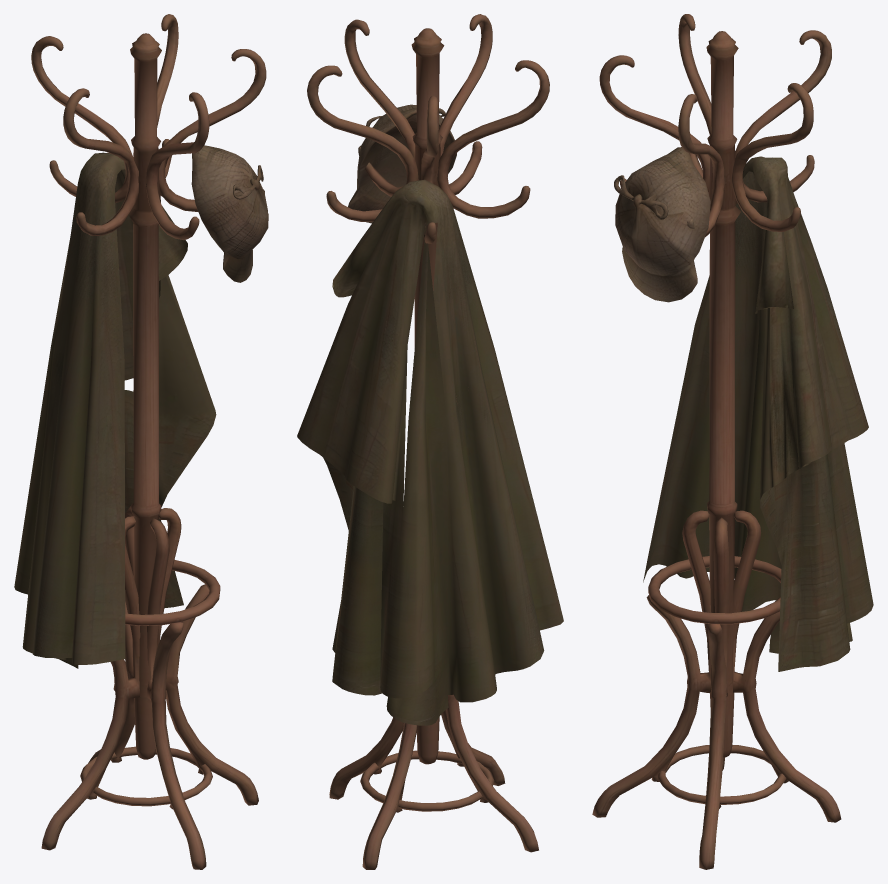
Rendered from SM_Env_BaskervilleCoatStand.fbx.
3 views of the same model, side by side, from view 1: azimuth 30°, elevation 25°; view 2: azimuth 150°, elevation 25°; view 3: azimuth 270°, elevation 25° (orthographic).
Visible parts, largest first — view 1: SM_Env_BaskervilleCoatStand; view 2: SM_Env_BaskervilleCoatStand; view 3: SM_Env_BaskervilleCoatStand.
Part boxes in pixels (x1,y1,x2,y2): SM_Env_BaskervilleCoatStand: (14, 14, 268, 869); SM_Env_BaskervilleCoatStand: (297, 14, 563, 869); SM_Env_BaskervilleCoatStand: (592, 14, 873, 869).
Size of the model in its own units: 16.4 by 18.46 by 57.
Materials: 1 (1 with a texture image).
